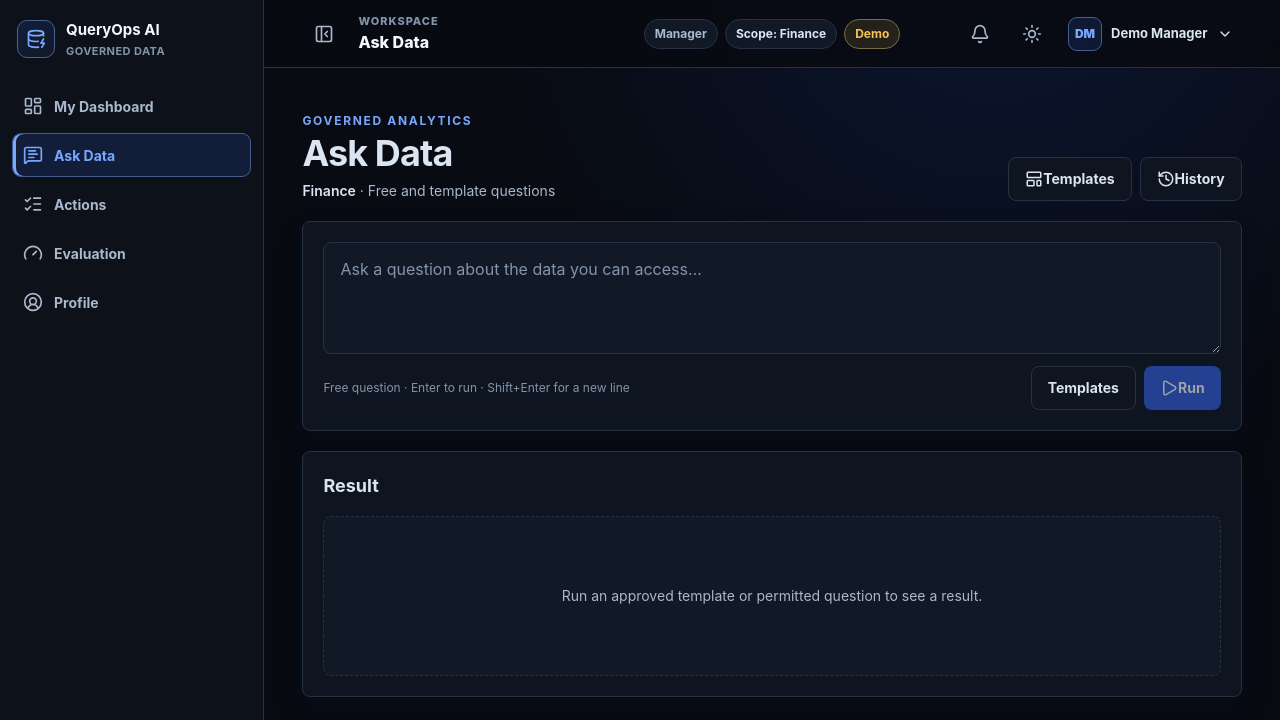
Test: Ask Data requester actions › previews once, preserves the result on preview failure, and submits to the detail route
This screenshot has width=1280, height=720.
Click the button "Templates" in the row of "Free and template questions".
click(1070, 179)  # box [1008,157,1132,201]
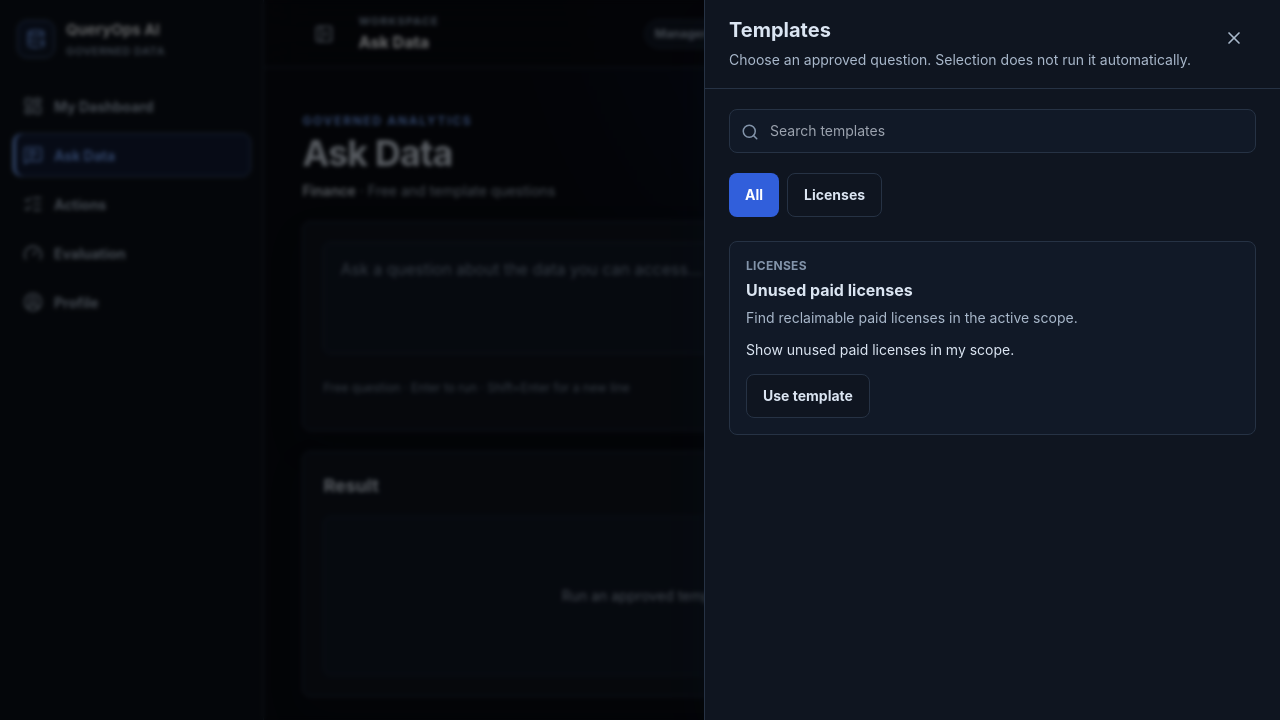
Click the button "Use template".
click(808, 396)  # box [746,374,870,418]
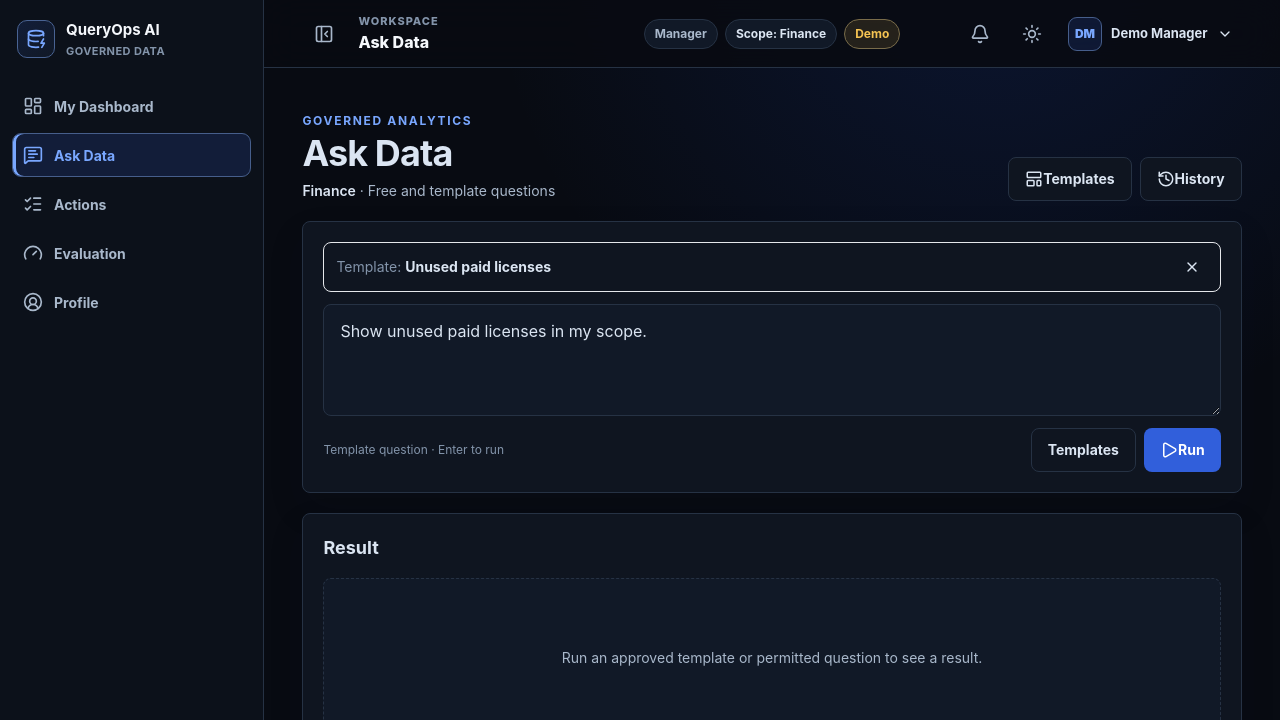
Click the button "Run".
click(1182, 450)  # box [1144,428,1221,472]
(page scrolled)
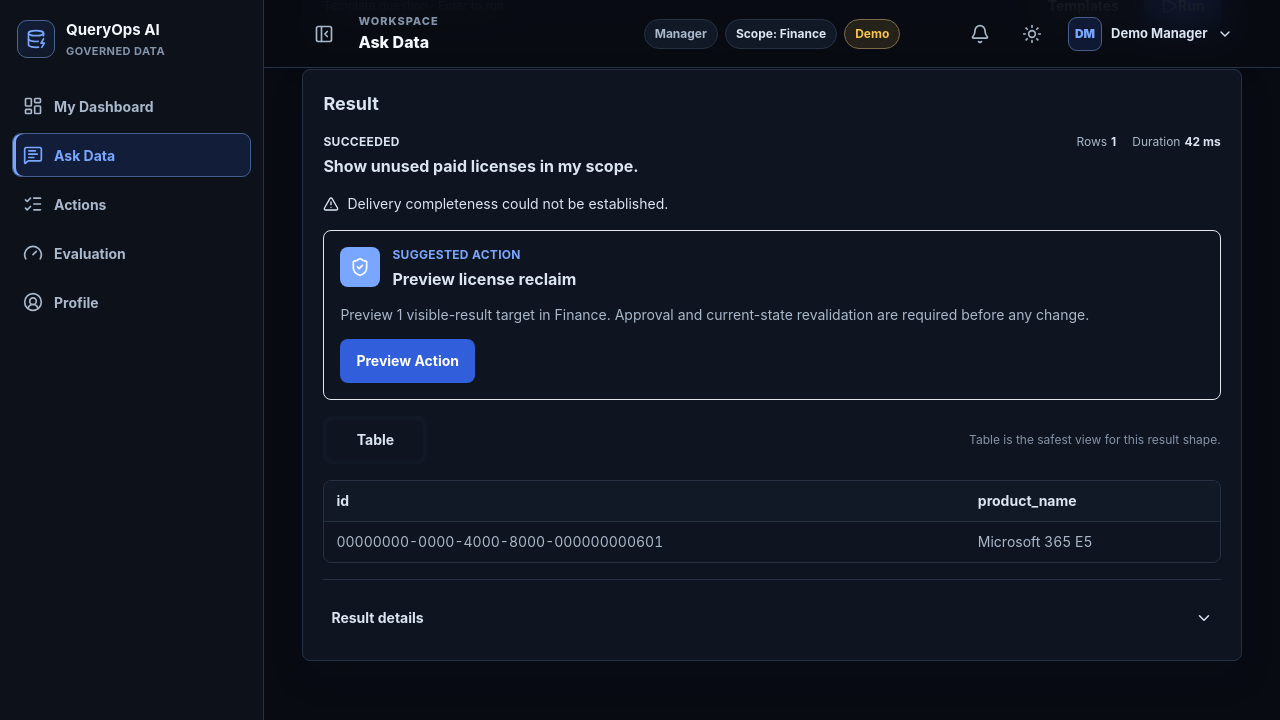
Expected: the text "succeeded" is shown, [323,134,400,149]
Click the button "Preview Action".
click(408, 361)  # box [340,339,475,383]
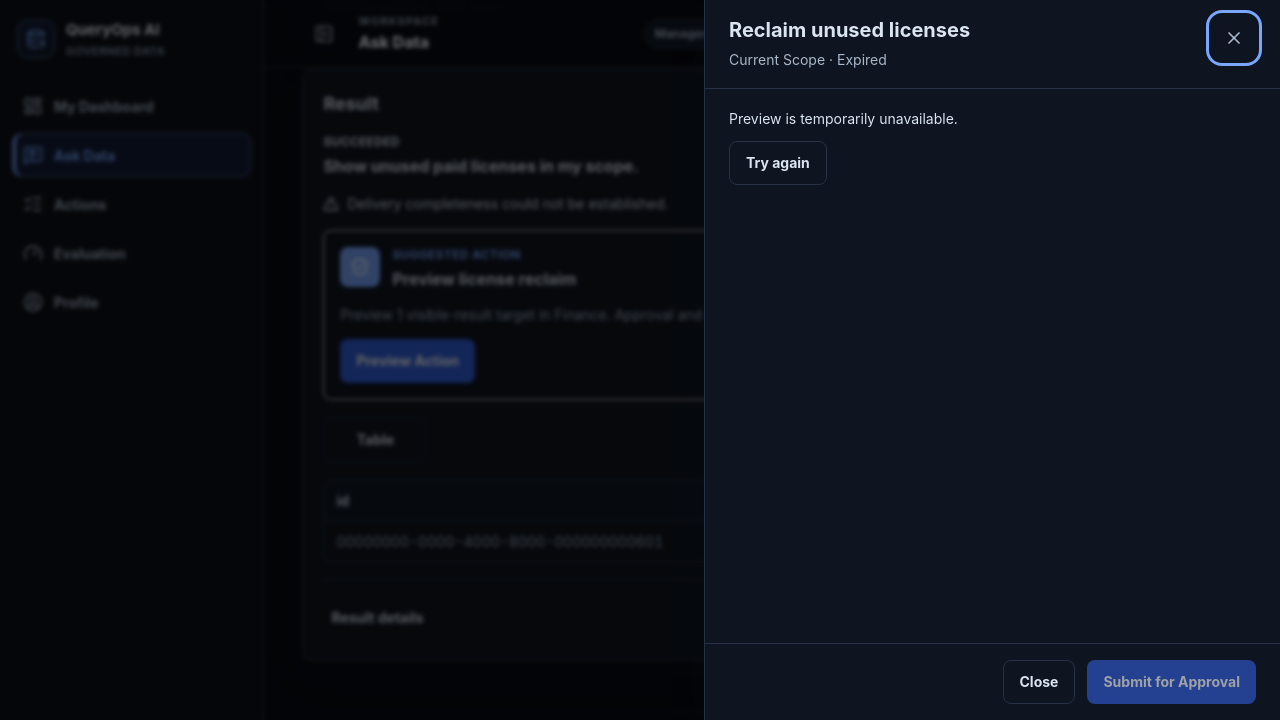
Expected: the message shows "Preview is temporarily unavailable.", [729,110,958,127]
Click the button "Try again".
click(778, 163)  # box [729,141,827,185]
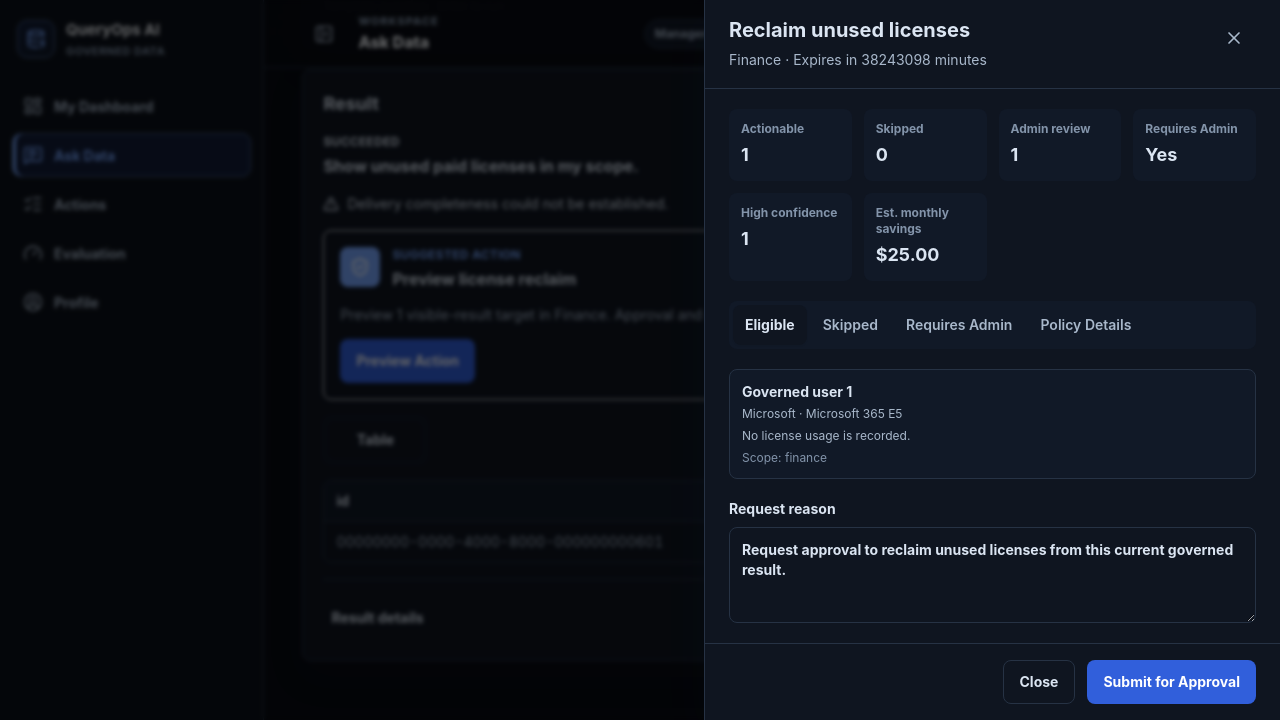
Expected: the text box labelled "Request reason" is shown, [729,527,1256,623]
Click the button "Submit for Approval".
click(1172, 682)  # box [1087,660,1256,704]
(page scrolled)
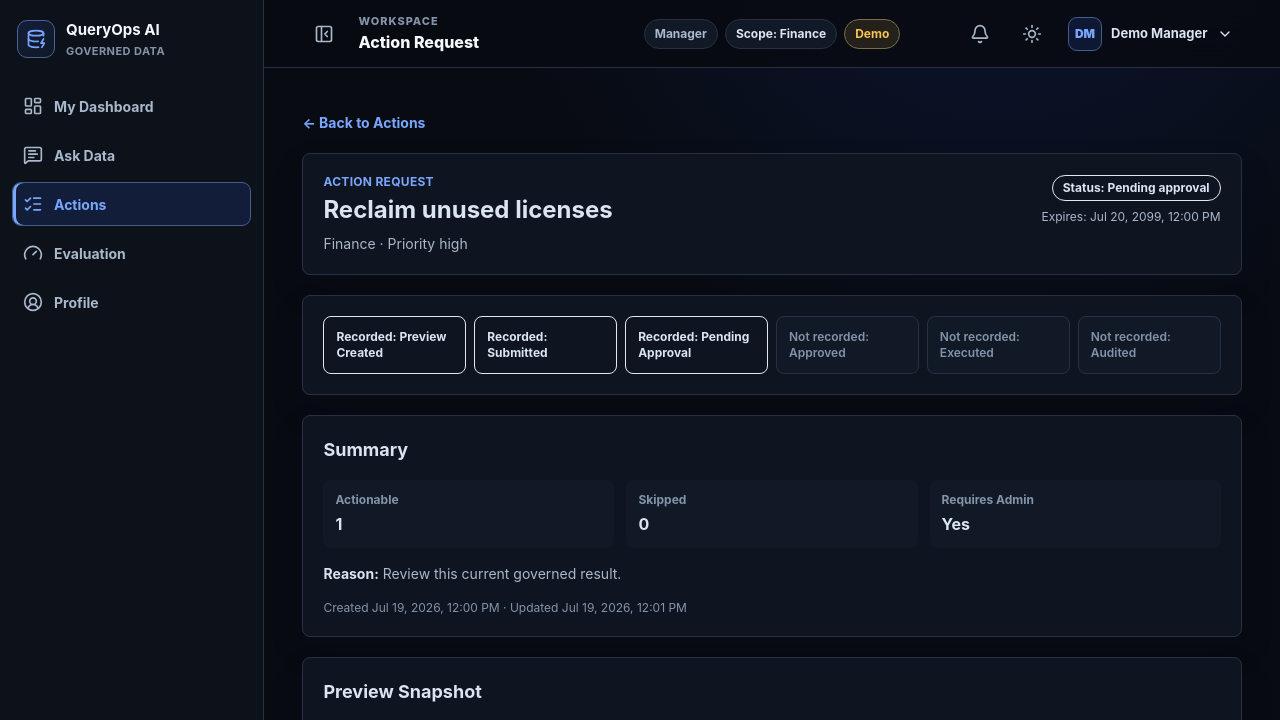
Expected: the text "Status: Pending approval" is shown, [1052,175,1221,201]
